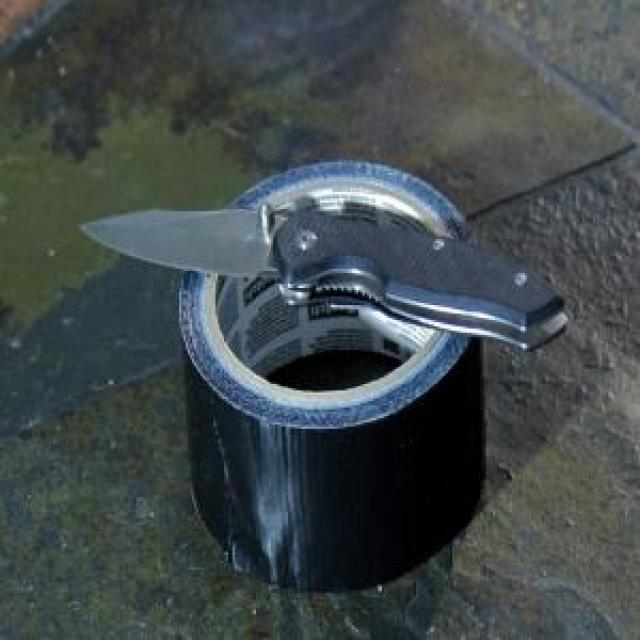knife: (77, 196, 572, 361)
